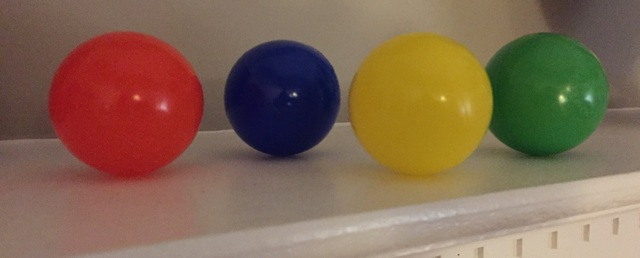Ball: (348, 31, 491, 169)
